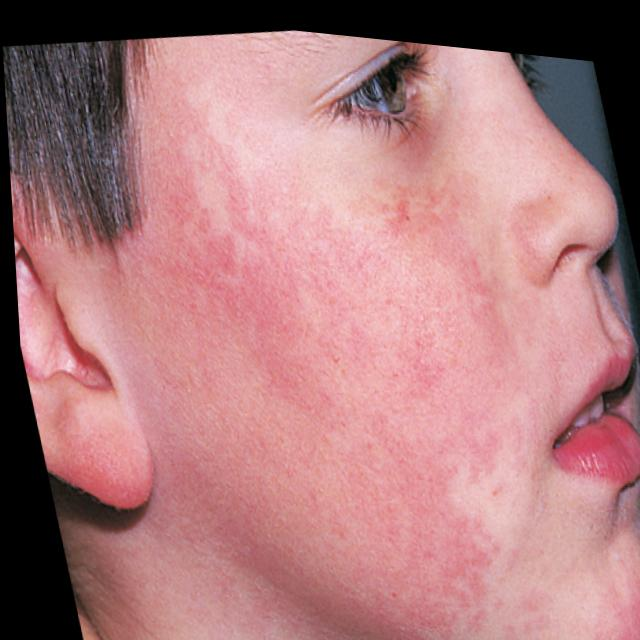Erythema infectiosum: (147, 118, 471, 535)
